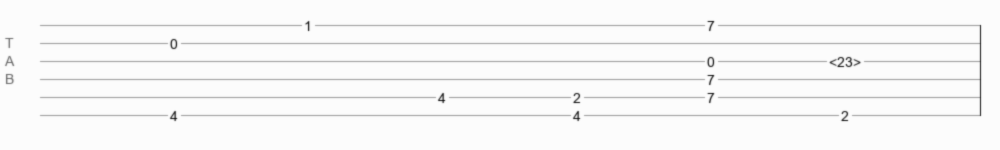0: (170, 36, 178, 46), (707, 54, 715, 64)
1: (304, 18, 312, 28)
2: (573, 90, 581, 100), (841, 108, 849, 118)
4: (170, 108, 178, 118), (438, 90, 446, 100), (573, 108, 581, 118)
7: (707, 72, 715, 82), (707, 18, 715, 28), (707, 90, 715, 100)
harmonic: (829, 54, 861, 64)
